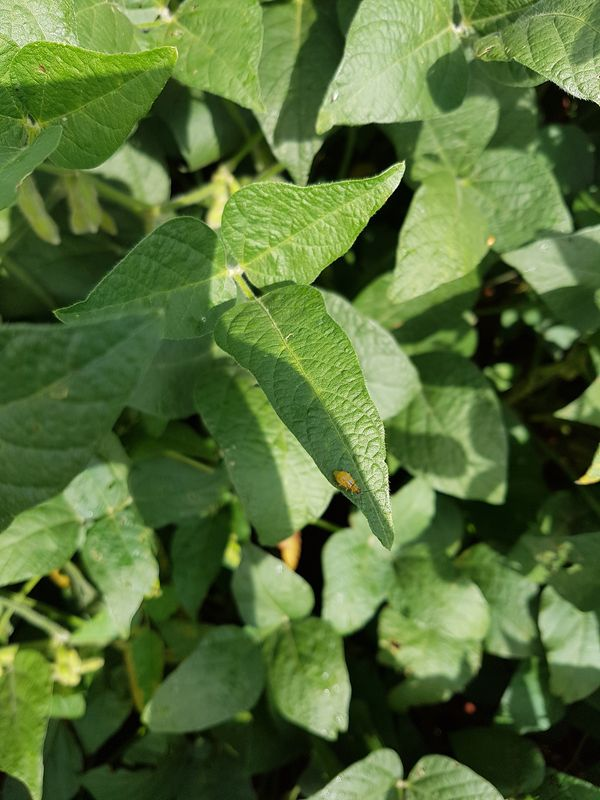Diabrotica_speciosa: (323, 465, 366, 505)
